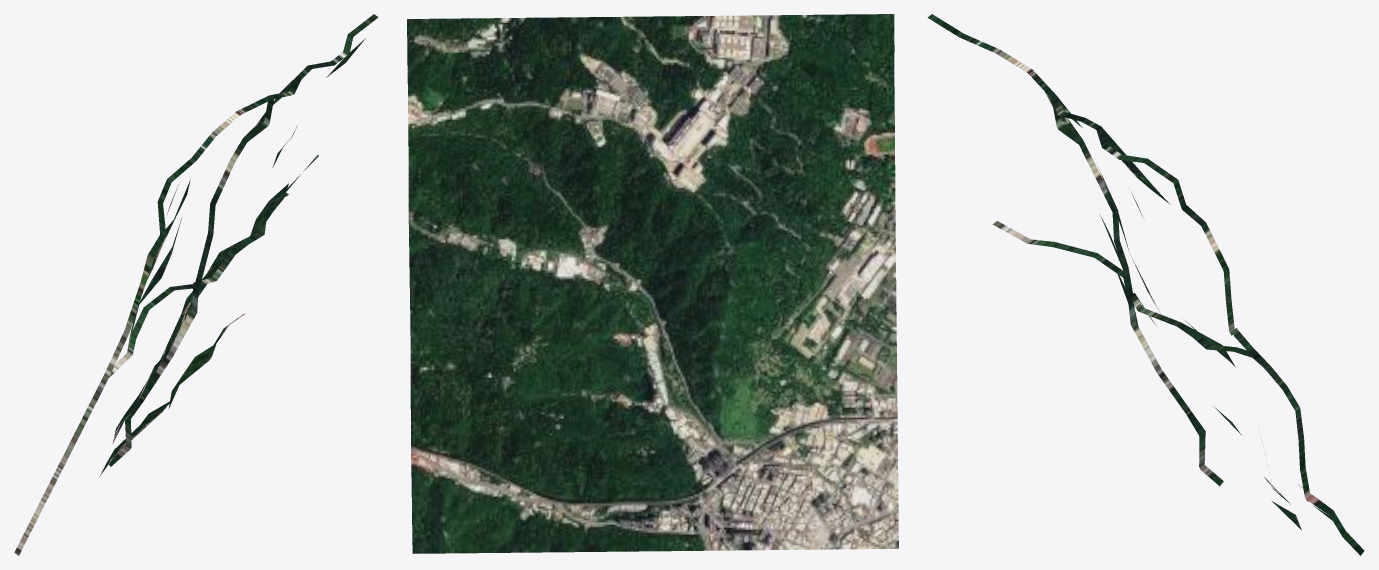
The picture shows the model from 3 angles, left to right: view 1: azimuth 30°, elevation 25°; view 2: azimuth 150°, elevation 25°; view 3: azimuth 270°, elevation 25°; orthographic projection. The views are drawn at different scales.
Bounding box in the file's own units: 2357 × 2316 × 2082.
Materials: 1 (1 with a texture image).
